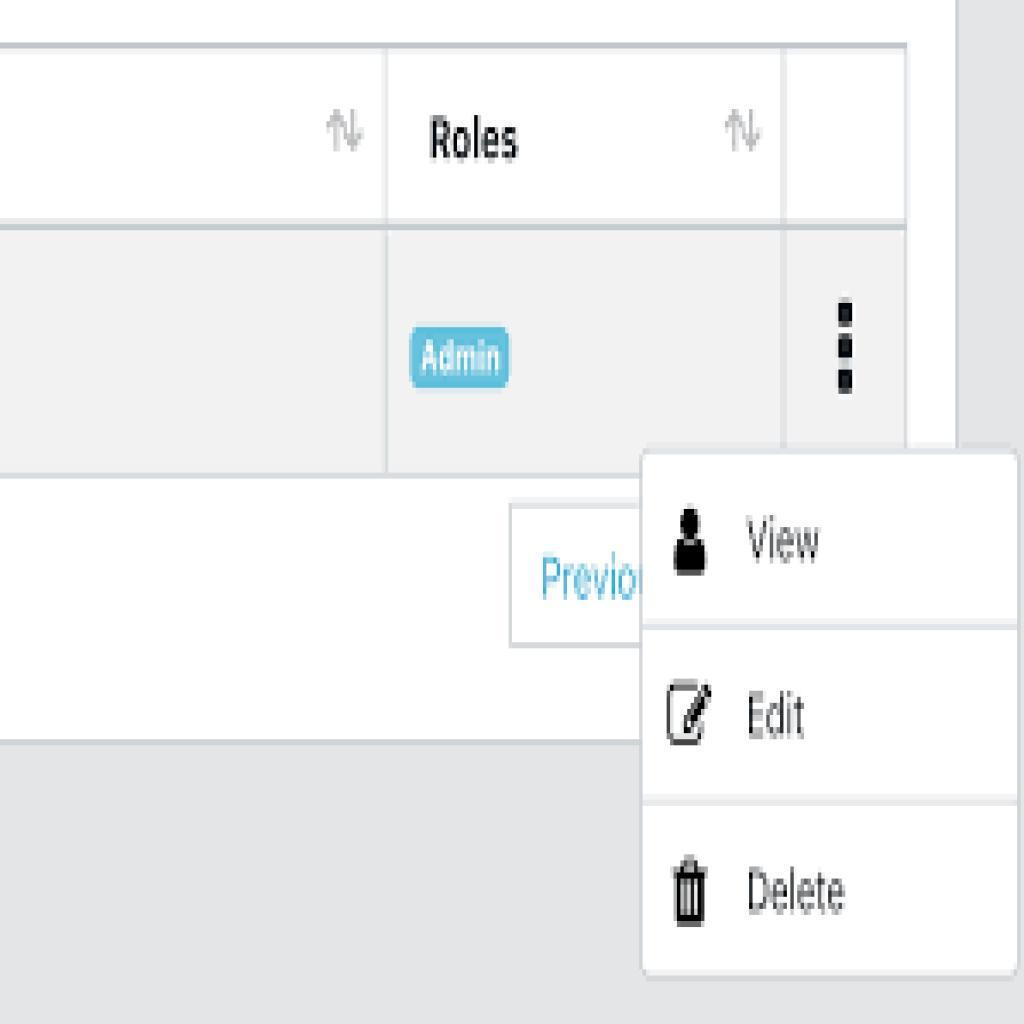button: (408, 327, 511, 391)
icon: (655, 656, 727, 771), (664, 828, 719, 950), (662, 493, 719, 597), (827, 295, 867, 411)
label: (738, 855, 860, 924), (741, 682, 816, 761), (740, 512, 830, 573)
